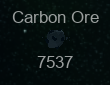Carbon: (11, 8, 99, 71)
